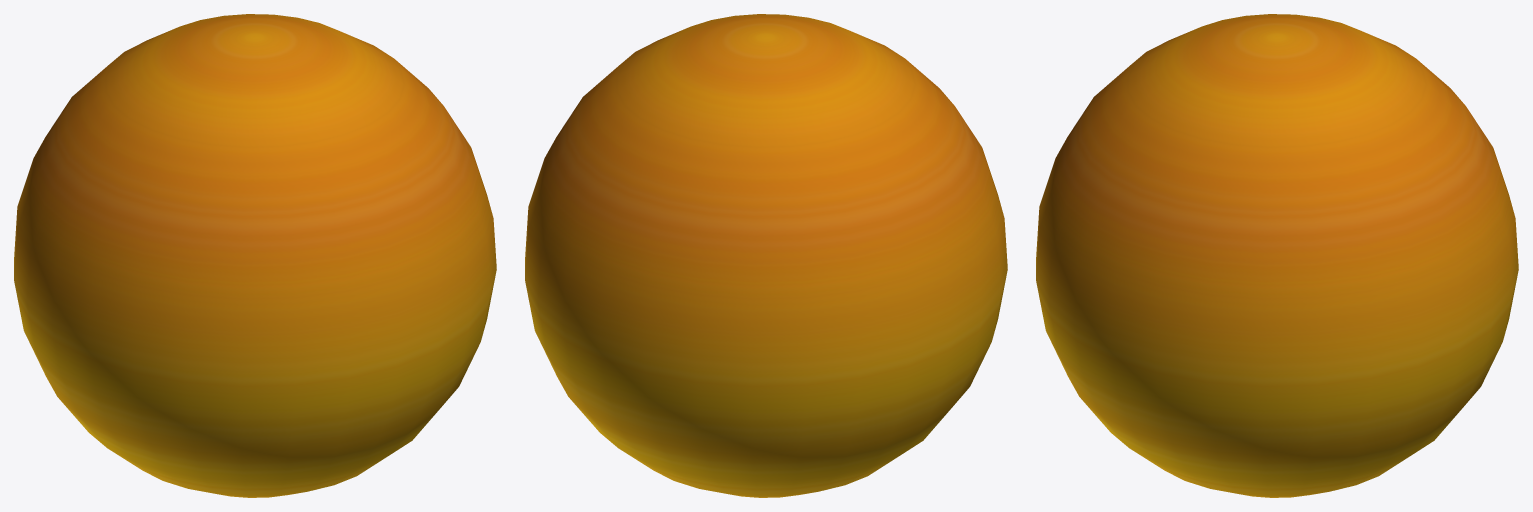
File: Sun.FBX
3 views of the same model, side by side, from view 1: azimuth 30°, elevation 25°; view 2: azimuth 150°, elevation 25°; view 3: azimuth 270°, elevation 25° (orthographic).
Parts seen in each view (by area): view 1: Sphere001; view 2: Sphere001; view 3: Sphere001.
Boxes of the visible parts, x1,y1,x2,y2 form: Sphere001: [14, 14, 496, 497]; Sphere001: [525, 14, 1007, 497]; Sphere001: [1036, 14, 1518, 497].
Bounding box in the file's own units: 11.07 × 11.11 × 11.05.
1 material, 1 textured.
